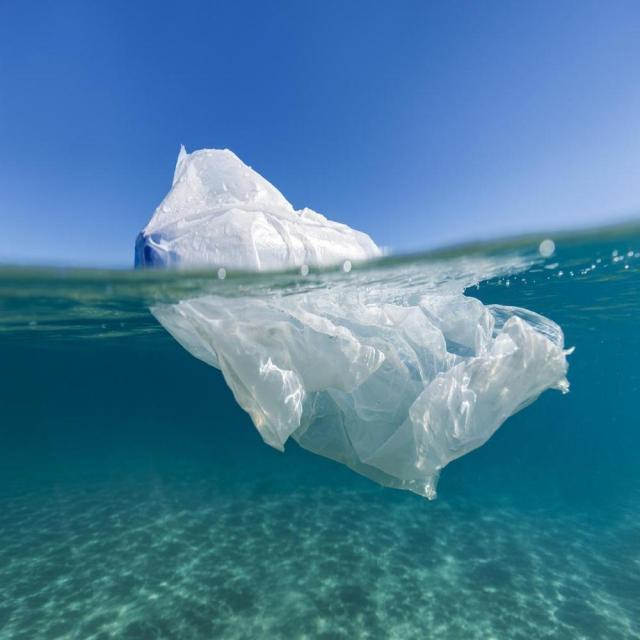Plastic_Bag: (139, 129, 565, 512)
